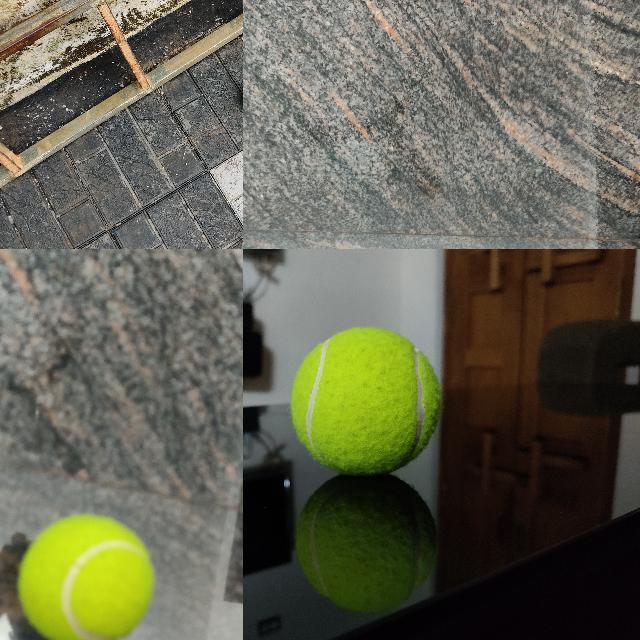tennis-ball: (291, 326, 442, 476), (16, 513, 155, 639)
